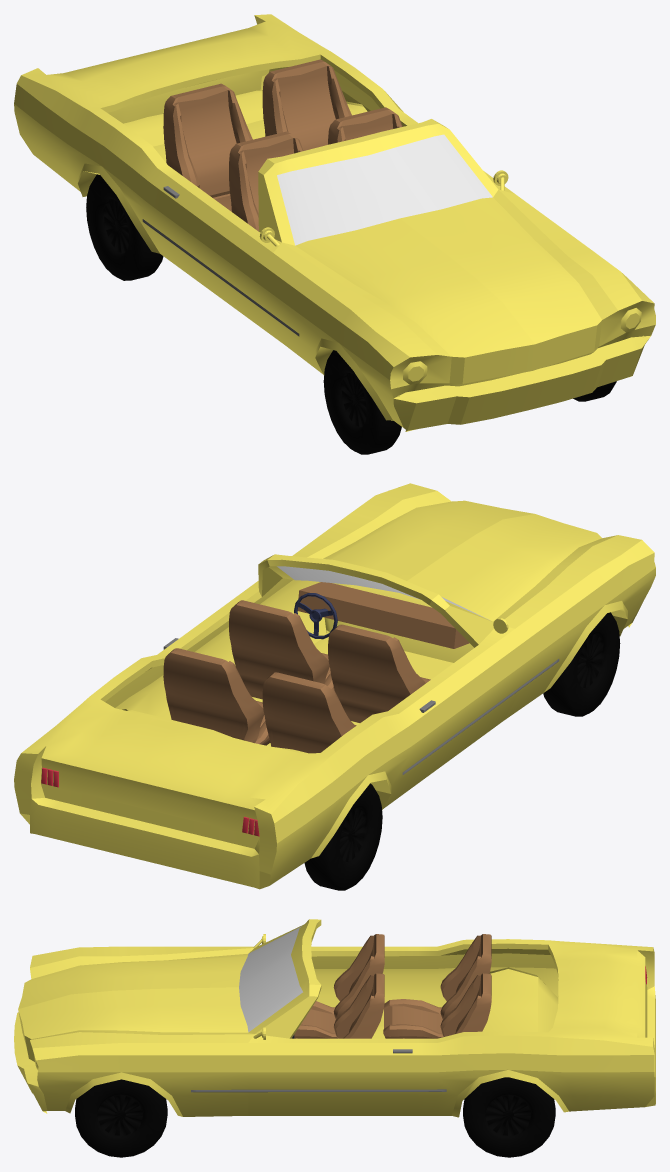
File: carmodel(yellow).fbx
The picture shows the model from 3 angles, top to bottom: view 1: azimuth 30°, elevation 25°; view 2: azimuth 150°, elevation 25°; view 3: azimuth 270°, elevation 25°; orthographic projection. The views are drawn at different scales.
Visible parts, largest first — view 1: bodywork, chairs, wheel in front right, wheel in back right, side add ons; view 2: bodywork, chairs, dashboard, wheel in back right, wheel in front right, steering wheel, side add ons; view 3: bodywork, chairs, wheel in back left, wheel in front left, side add ons.
Part boxes in pixels (left/top/right/bottom): bodywork: left=14, top=14, right=655, bottom=431; chairs: left=163, top=59, right=402, bottom=231; wheel in front right: left=323, top=350, right=401, bottom=454; wheel in back right: left=86, top=174, right=163, bottom=280; side add ons: left=142, top=186, right=299, bottom=336; bodywork: left=14, top=483, right=655, bottom=889; chairs: left=163, top=600, right=430, bottom=753; dashboard: left=297, top=582, right=469, bottom=648; wheel in back right: left=304, top=783, right=382, bottom=890; wheel in front right: left=543, top=612, right=620, bottom=716; steering wheel: left=294, top=593, right=337, bottom=639; side add ons: left=163, top=638, right=559, bottom=774; bodywork: left=14, top=919, right=655, bottom=1117; chairs: left=292, top=934, right=491, bottom=1038; wheel in back left: left=463, top=1077, right=555, bottom=1157; wheel in front left: left=75, top=1079, right=167, bottom=1157; side add ons: left=191, top=1049, right=446, bottom=1092.
Size of the model in its own units: 134 by 93.9 by 336.
